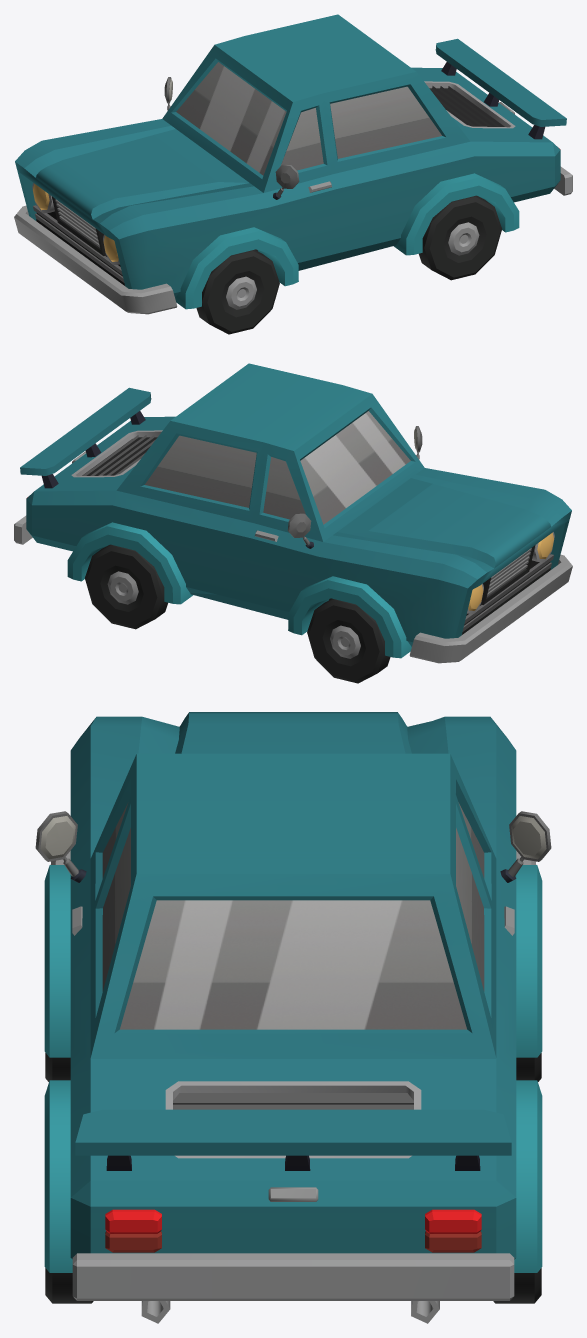
Rendered from Car_9_A.gltf.
The picture shows the model from 3 angles, top to bottom: view 1: azimuth 30°, elevation 25°; view 2: azimuth 150°, elevation 25°; view 3: azimuth 270°, elevation 25°; orthographic projection. The views are drawn at different scales.
Parts seen in each view (by area): view 1: Car_9_A, RL, FL; view 2: Car_9_A, RR, FR; view 3: Car_9_A, RL, RR.
Part boxes in pixels (x1,y1,x2,y2): Car_9_A: (14,14,572,314); RL: (419,195,501,280); FL: (196,249,279,334); Car_9_A: (14,363,572,663); RR: (85,544,167,629); FR: (307,598,390,683); Car_9_A: (35,712,551,1323); RL: (45,1268,93,1303); RR: (493,1268,541,1303).
Bounding box in the file's own units: 3.1 × 1.28 × 1.51.
4 materials, 4 textured.
